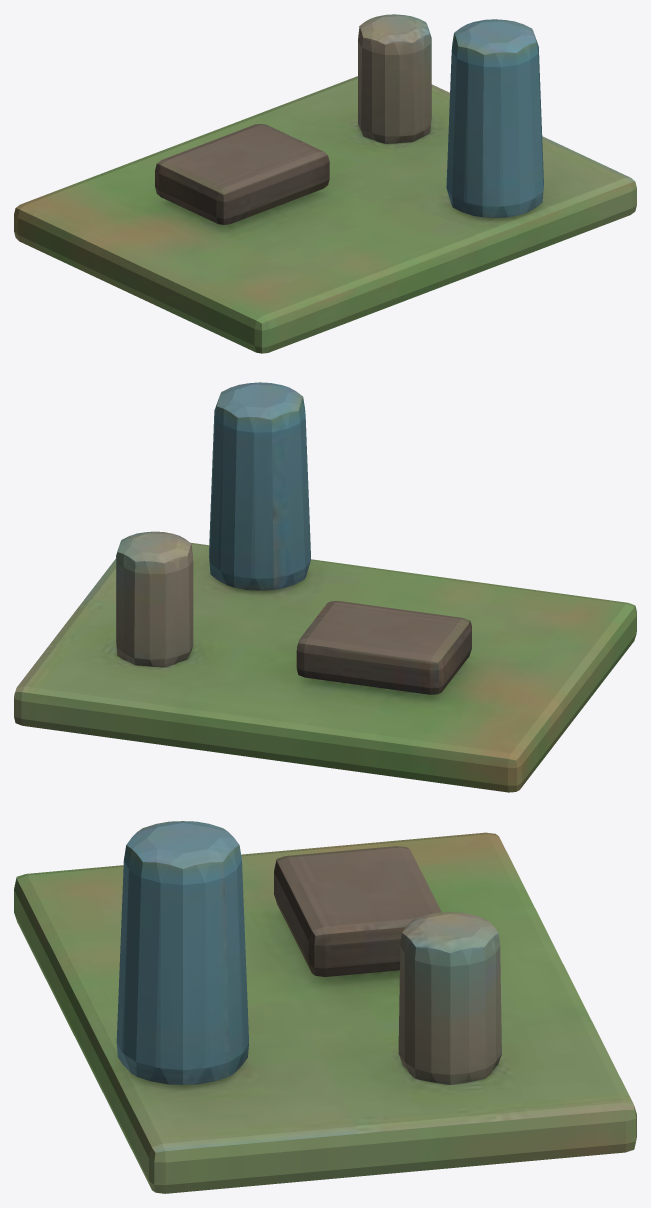
File: mat_electronic_parts.glb
The picture shows the model from 3 angles, top to bottom: view 1: azimuth 30°, elevation 25°; view 2: azimuth 150°, elevation 25°; view 3: azimuth 270°, elevation 25°; orthographic projection. The views are drawn at different scales.
Parts seen in each view (by area): view 1: ElectronicParts_Mesh; view 2: ElectronicParts_Mesh; view 3: ElectronicParts_Mesh.
Boxes of the visible parts, box(x1,y1,x2,y2) form: ElectronicParts_Mesh: box(14, 14, 636, 353); ElectronicParts_Mesh: box(14, 382, 636, 792); ElectronicParts_Mesh: box(14, 821, 636, 1193).
Bounding box in the file's own units: 0.4266 × 0.17 × 0.3496.
Materials: 1 (1 with a texture image).
